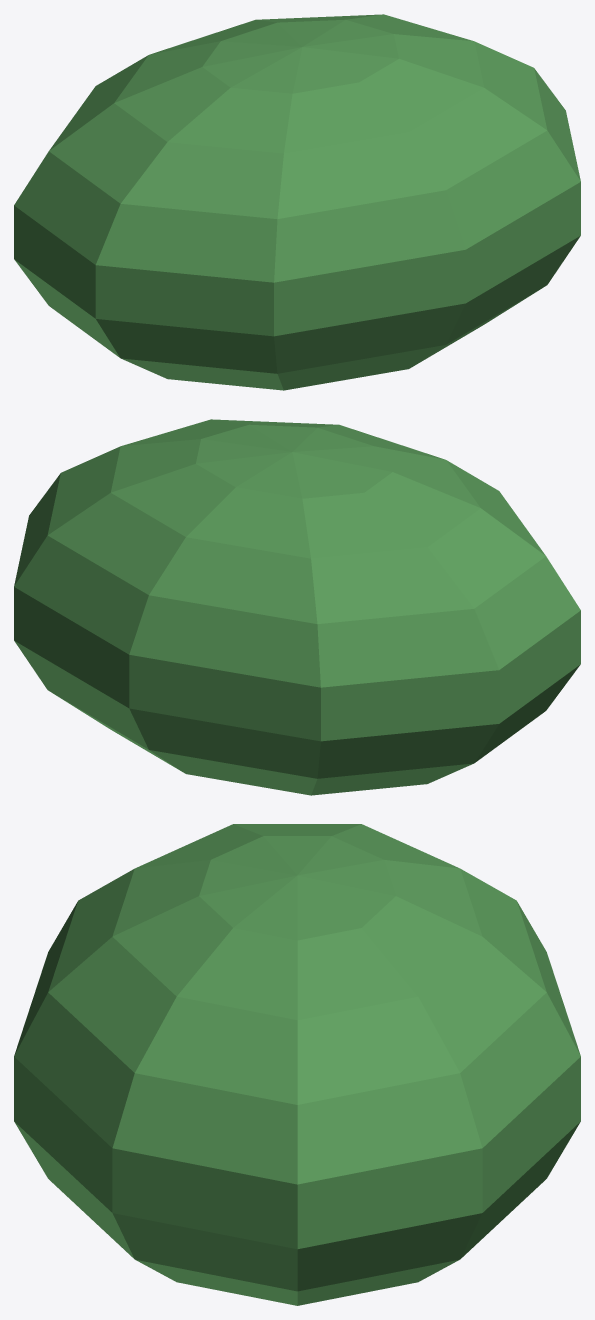
File: Bush_3.fbx
3 renders of one model, top to bottom at view 1: azimuth 30°, elevation 25°; view 2: azimuth 150°, elevation 25°; view 3: azimuth 270°, elevation 25°, orthographic. The views are drawn at different scales.
Parts seen in each view (by area): view 1: Bush_1; view 2: Bush_1; view 3: Bush_1.
Boxes of the visible parts, bbox=[...] form: Bush_1: bbox=[14, 14, 580, 390]; Bush_1: bbox=[14, 419, 580, 795]; Bush_1: bbox=[14, 824, 580, 1305].
Size of the model in its own units: 4.52 by 2.61 by 3.6.
